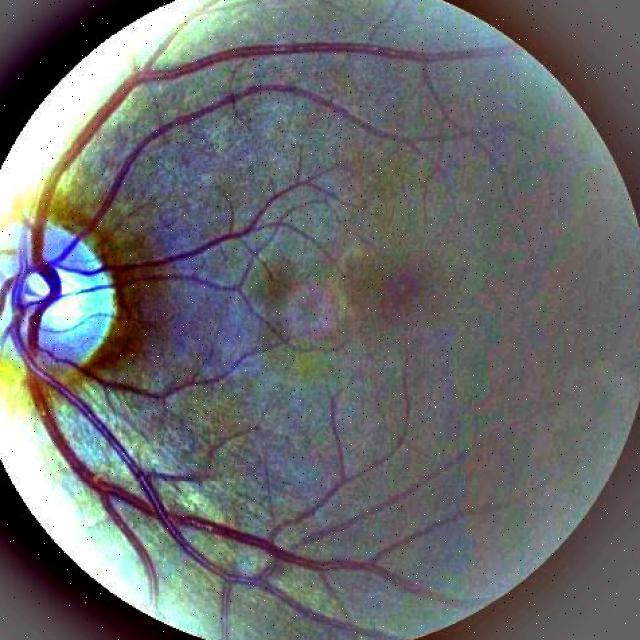Macula: (326, 232, 470, 338)
Nerves: (14, 238, 406, 614)
Optic Disk: (0, 213, 139, 394)
